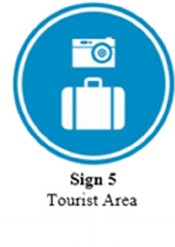Traffic signal: (12, 1, 175, 165)
